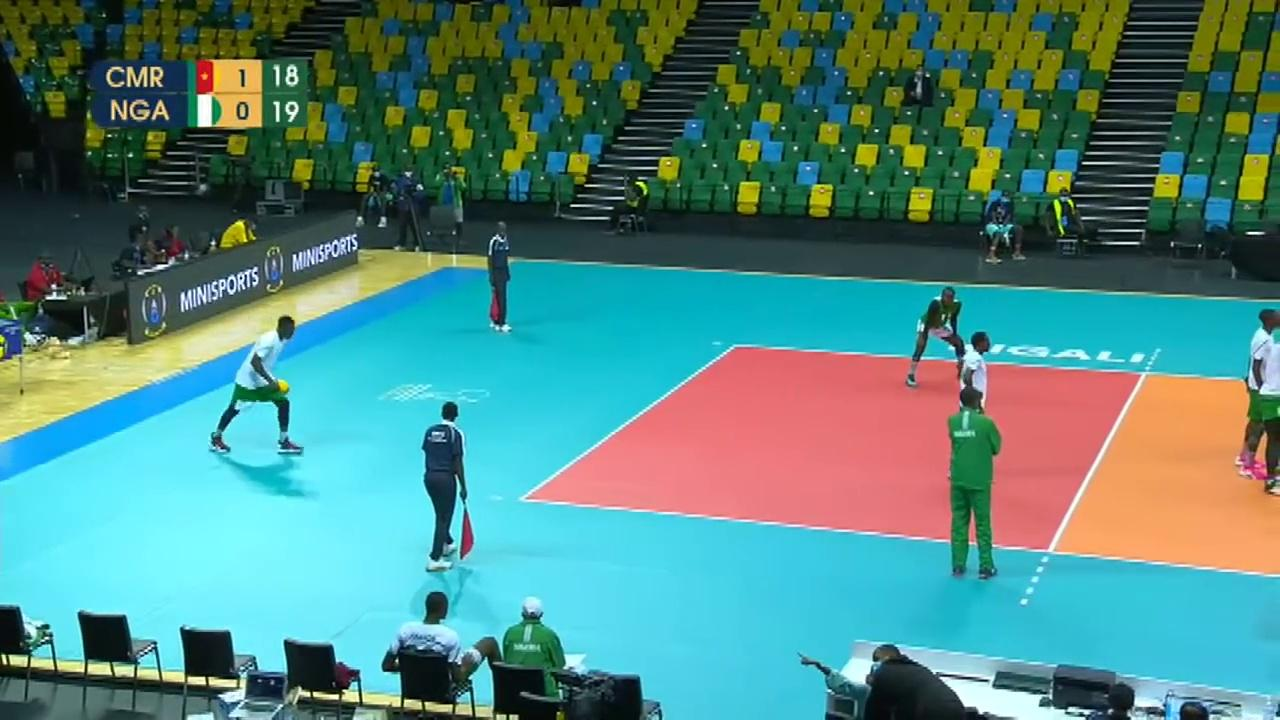player: (210, 320, 305, 450), (1244, 308, 1279, 488), (904, 286, 964, 387), (951, 331, 994, 419), (1262, 329, 1280, 499)
refree: (421, 405, 472, 567), (482, 220, 513, 332)
